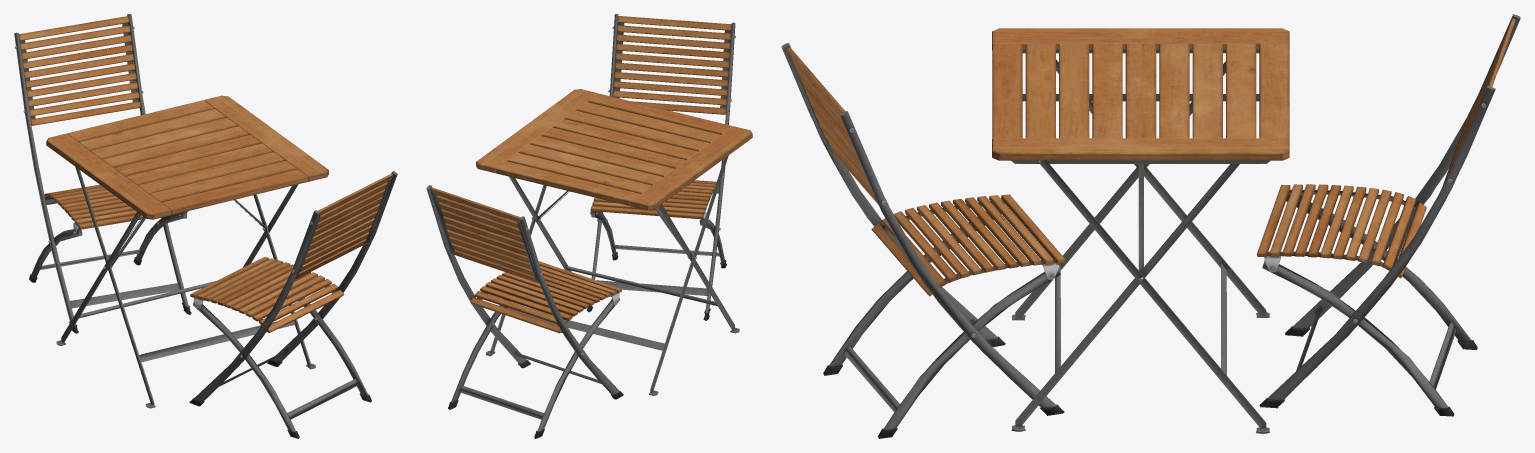
Rendered from outdoor_table_chair_set_01.glb.
3 renders of one model, left to right at view 1: azimuth 30°, elevation 25°; view 2: azimuth 150°, elevation 25°; view 3: azimuth 270°, elevation 25°, orthographic. The views are drawn at different scales.
Parts seen in each view (by area): view 1: outdoor_table_chair_set_01_table, outdoor_table_chair_set_01_chair_02, outdoor_table_chair_set_01_chair_01; view 2: outdoor_table_chair_set_01_table, outdoor_table_chair_set_01_chair_02, outdoor_table_chair_set_01_chair_01; view 3: outdoor_table_chair_set_01_table, outdoor_table_chair_set_01_chair_01, outdoor_table_chair_set_01_chair_02.
Part boxes in pixels (left/top/right/bottom): outdoor_table_chair_set_01_table: left=46, top=95, right=328, bottom=408; outdoor_table_chair_set_01_chair_02: left=14, top=14, right=191, bottom=333; outdoor_table_chair_set_01_chair_01: left=189, top=171, right=397, bottom=438; outdoor_table_chair_set_01_table: left=476, top=89, right=752, bottom=395; outdoor_table_chair_set_01_chair_02: left=426, top=185, right=623, bottom=438; outdoor_table_chair_set_01_chair_01: left=586, top=14, right=735, bottom=320; outdoor_table_chair_set_01_table: left=992, top=28, right=1289, bottom=434; outdoor_table_chair_set_01_chair_01: left=781, top=43, right=1065, bottom=438; outdoor_table_chair_set_01_chair_02: left=1257, top=14, right=1520, bottom=416.
Bounding box in the file's own units: 0.742 × 0.8586 × 1.72.
Materials: 2 (2 with a texture image).
